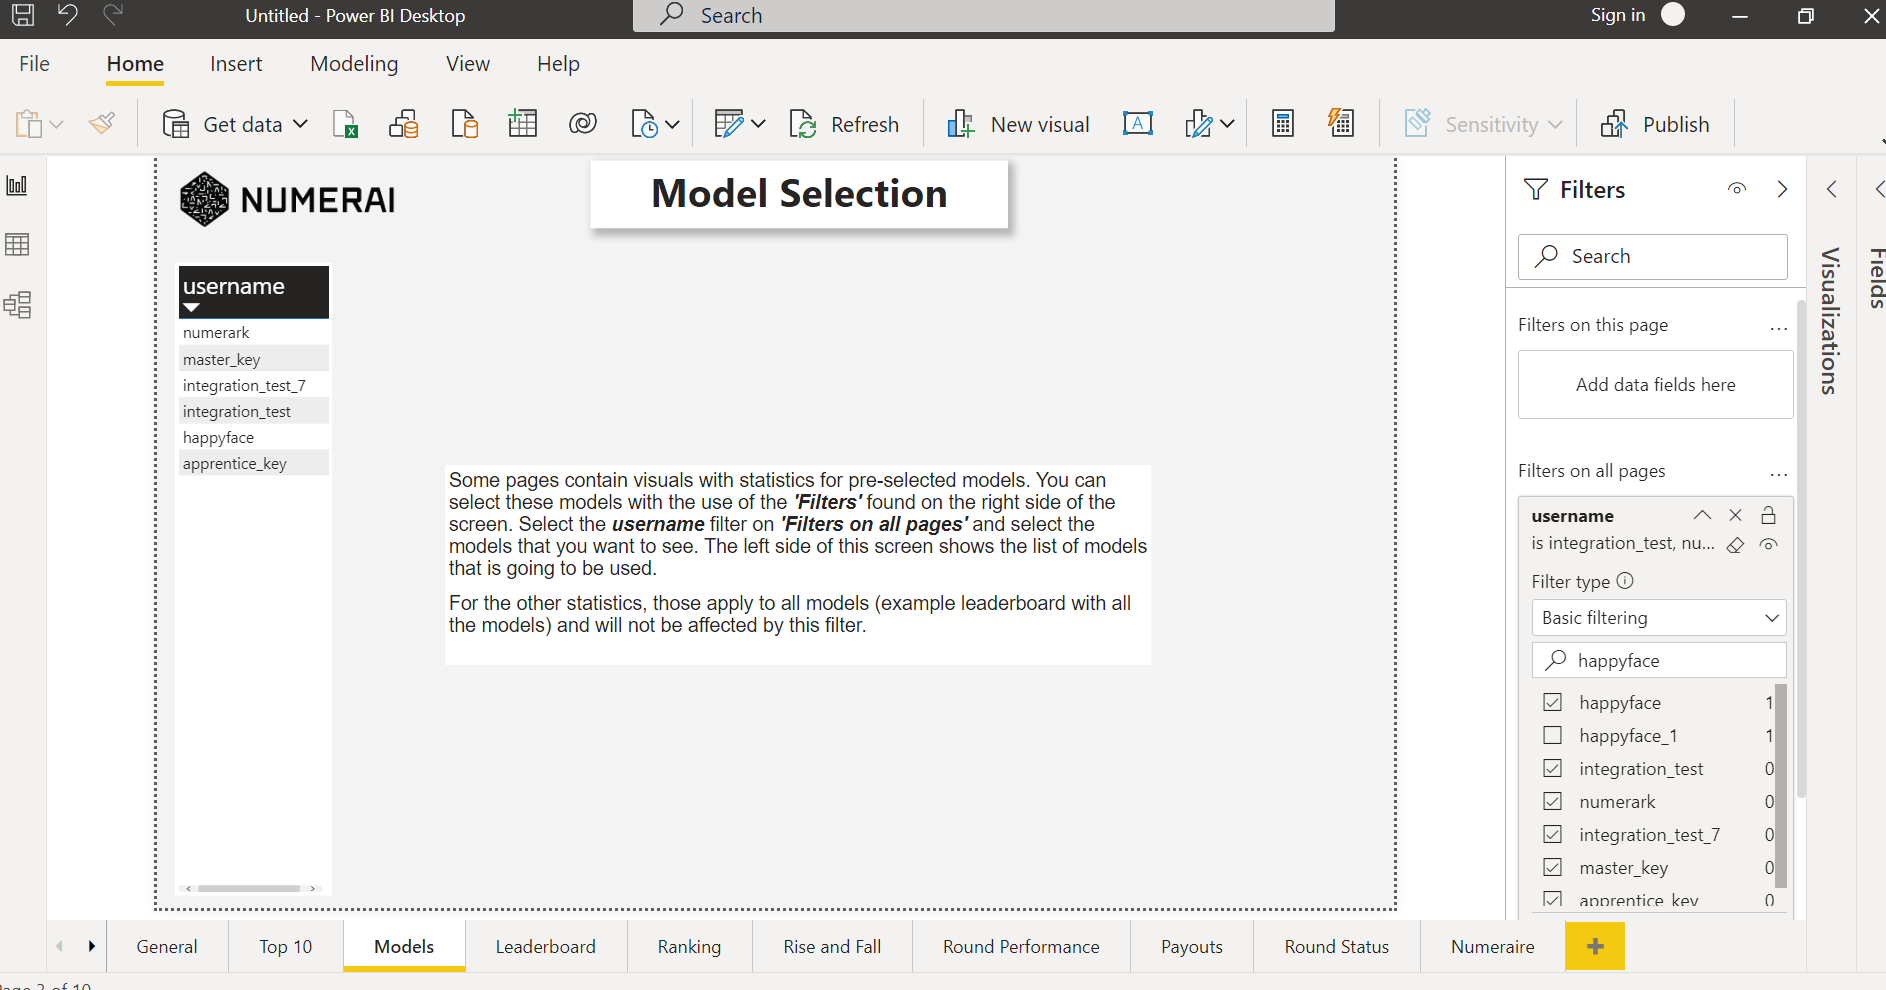

The page's visual inventory and layout, read from the dashboard file:
{"tool":"powerbi","page":{"name":"Models","canvas":[1679,1020],"ordinal":2},"visuals":[{"type":"slicer","fields":{"Values":["filtered_v2leaderboard.username"]},"box":[1370.6,144.7,289.5,859.4],"z":0},{"type":"textbox","box":[391.3,418.4,958.9,271.4],"z":1000},{"type":"textbox","box":[589,6.1,566.5,92],"z":2000},{"type":"image","box":[24.5,6.1,310.9,104.3],"z":3000},{"type":"tableEx","fields":{"Values":["filtered_v2leaderboard.username"]},"box":[0,144.7,368.6,859.4],"z":4000}]}

Visuals, with their boxes on the page's 1679x1020 design canvas (x1, y1, x2, y2). These are canvas units, not pixel positions in the 1886x990 screenshot, which may show the page scaled, cropped or inside an application window:
slicer - filtered_v2leaderboard.username: detection(1371, 145, 1660, 1004)
textbox: detection(391, 418, 1350, 690)
textbox: detection(589, 6, 1156, 98)
image: detection(24, 6, 335, 110)
tableEx - filtered_v2leaderboard.username: detection(0, 145, 369, 1004)
